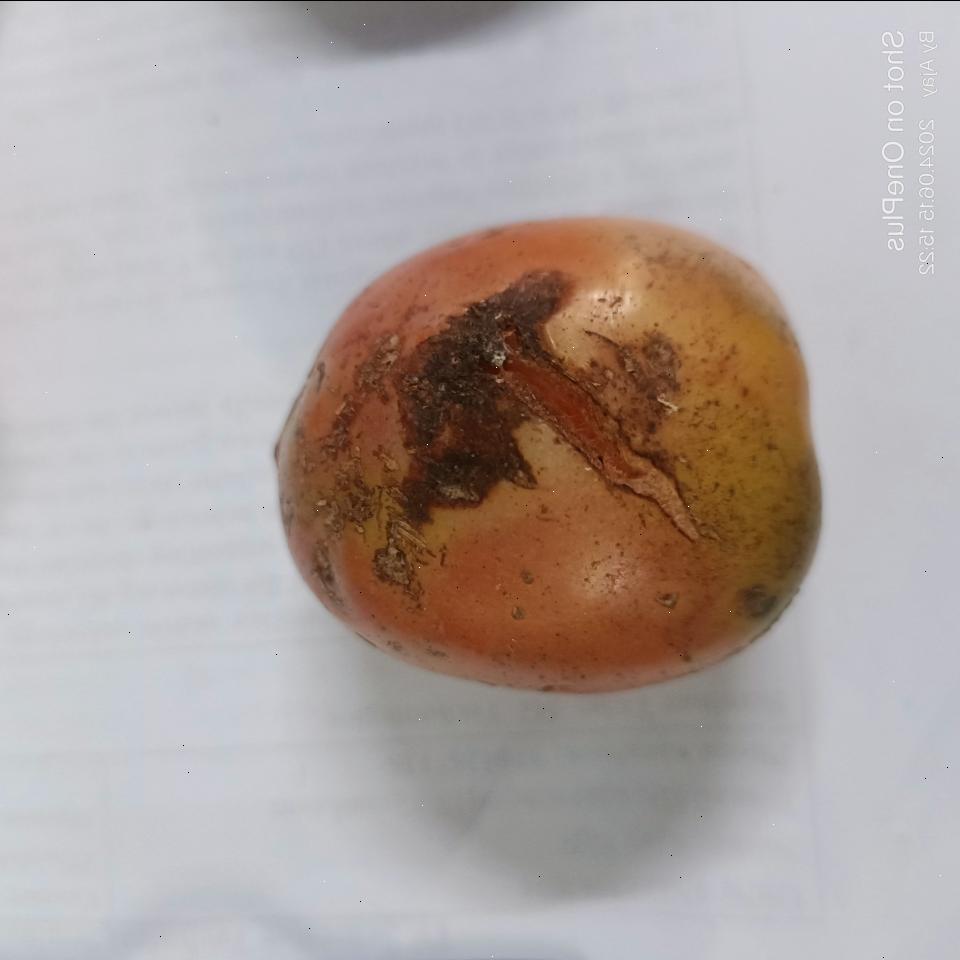Cracking: (384, 268, 560, 552), (523, 345, 716, 555)
